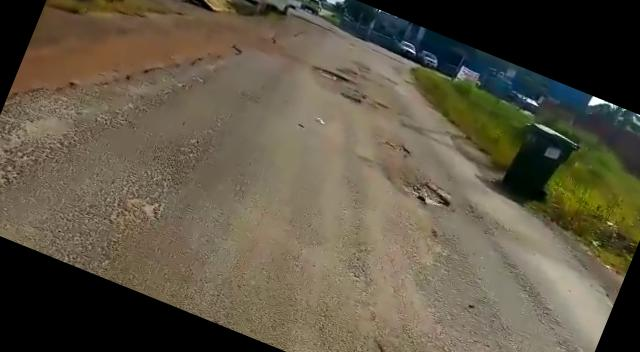pothole: (386, 168, 458, 218), (309, 61, 353, 86), (338, 90, 363, 107)
